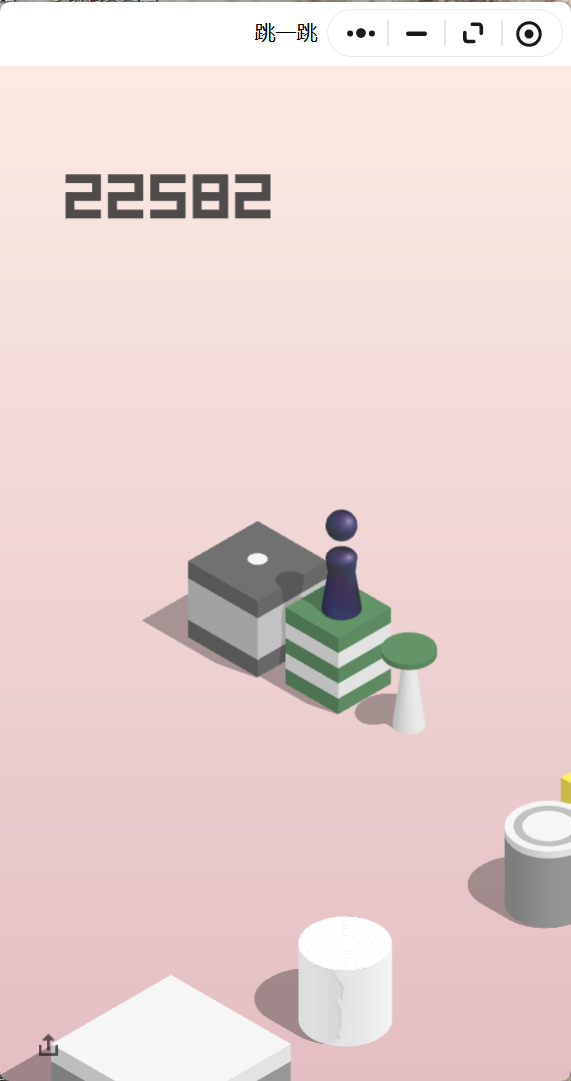piece: (326, 510, 357, 617)
target: (188, 521, 330, 600)
